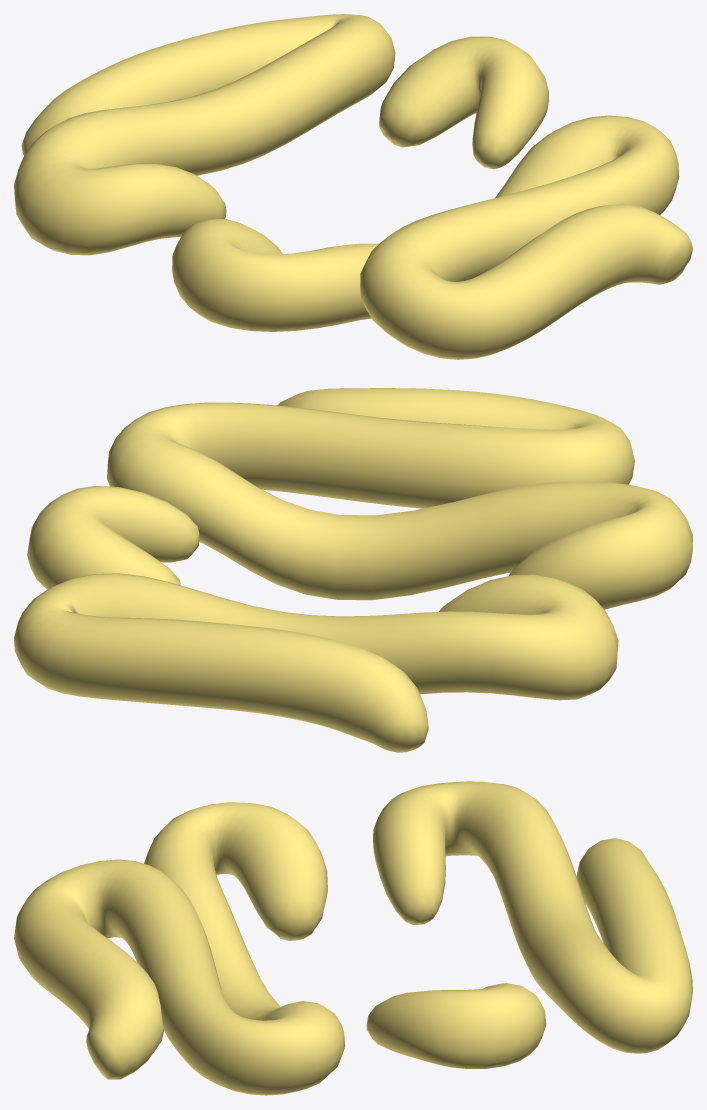
Rendered from Donut_Cream_02.fbx.
3 renders of one model, top to bottom at view 1: azimuth 30°, elevation 25°; view 2: azimuth 150°, elevation 25°; view 3: azimuth 270°, elevation 25°, orthographic. The views are drawn at different scales.
Visible parts, largest first — view 1: Donut_Cream_02_LOD0; view 2: Donut_Cream_02_LOD0; view 3: Donut_Cream_02_LOD0.
Part boxes in pixels (x1,y1,x2,y2): Donut_Cream_02_LOD0: (14, 14, 692, 359); Donut_Cream_02_LOD0: (14, 388, 692, 752); Donut_Cream_02_LOD0: (14, 781, 692, 1095).
Size of what is drawn, in the model's own units: 462 by 118 by 508.
